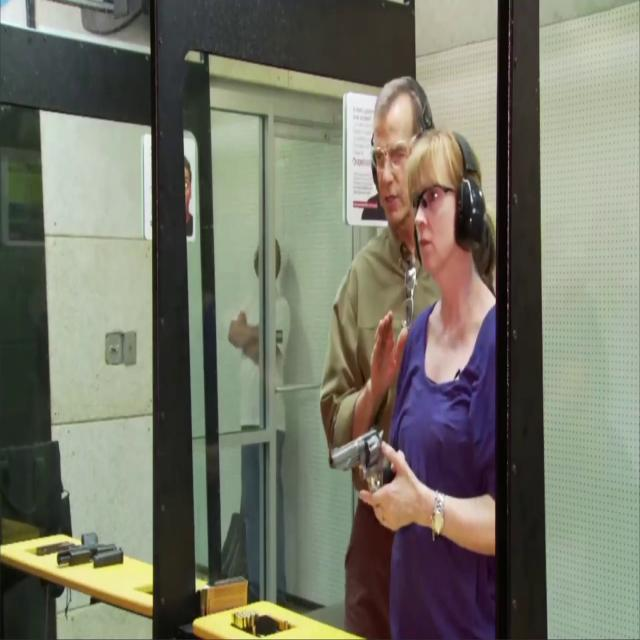gun: (328, 426, 396, 508)
